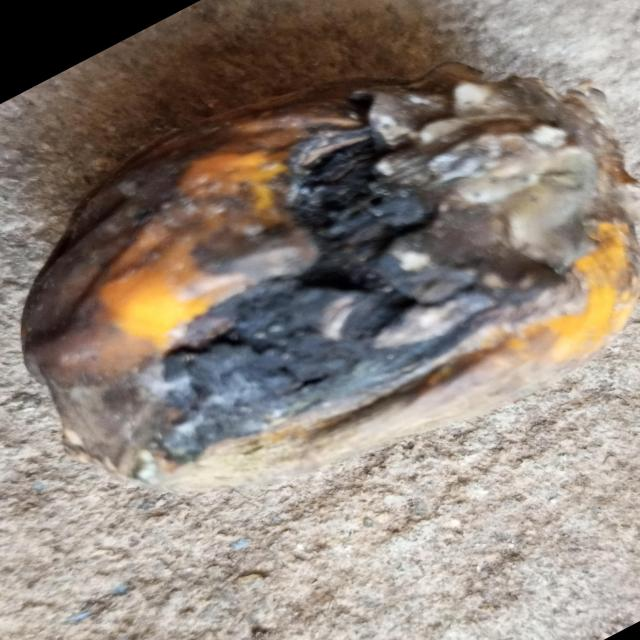damaged: (22, 63, 640, 489)
